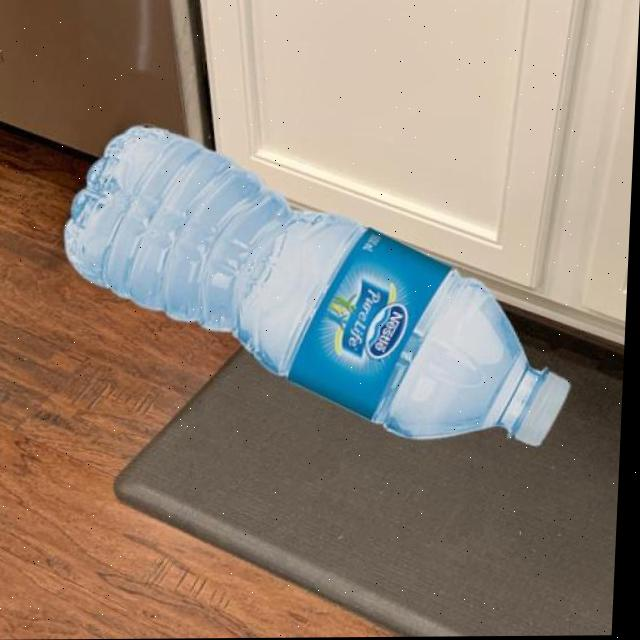bottle: (57, 120, 584, 452)
